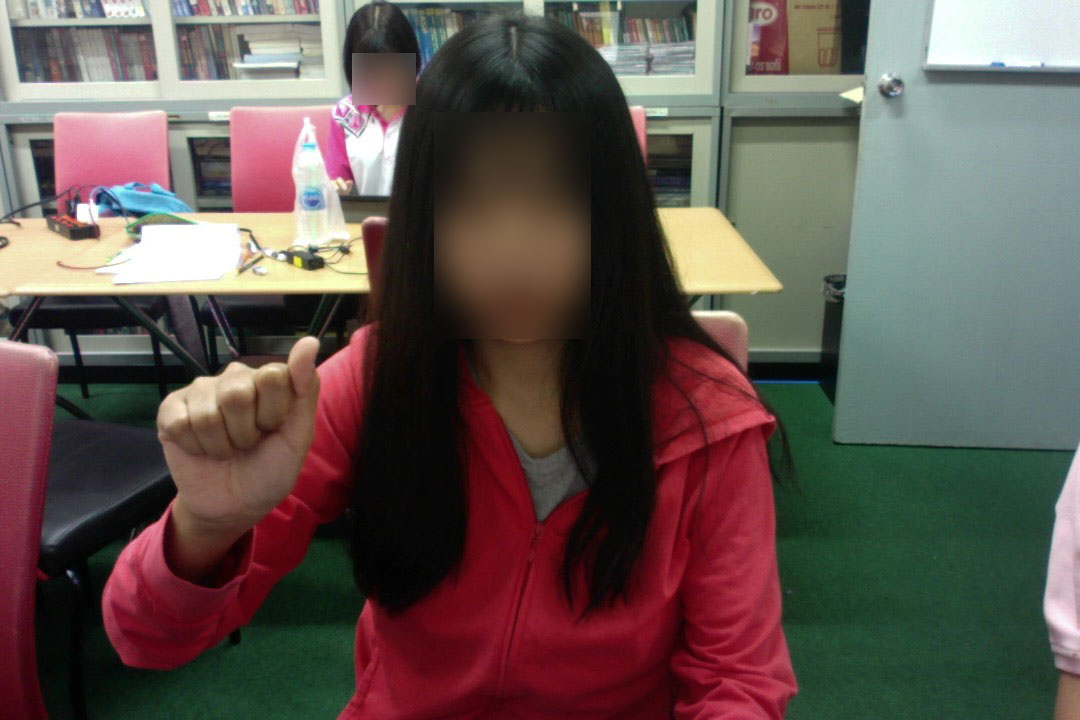or: (148, 328, 329, 555)
